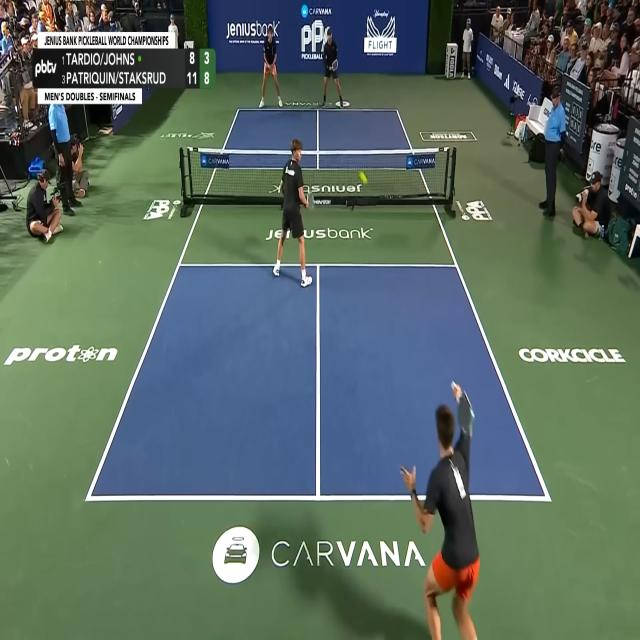ball: (358, 170, 368, 184)
